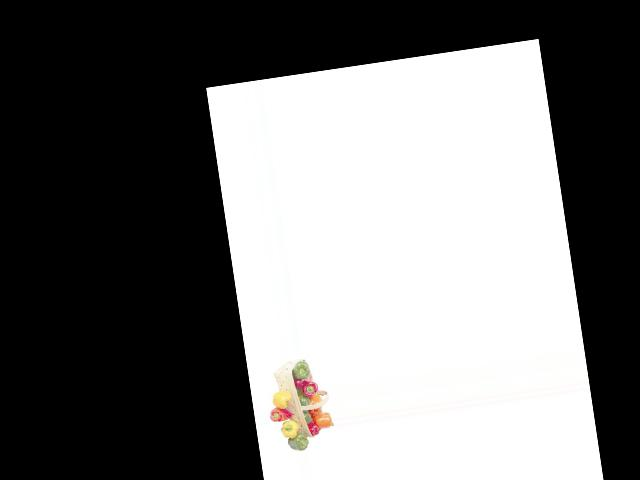bell_pepper: (292, 360, 311, 382)
